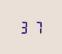seven: (31, 20, 42, 34)
three: (19, 20, 30, 34)
